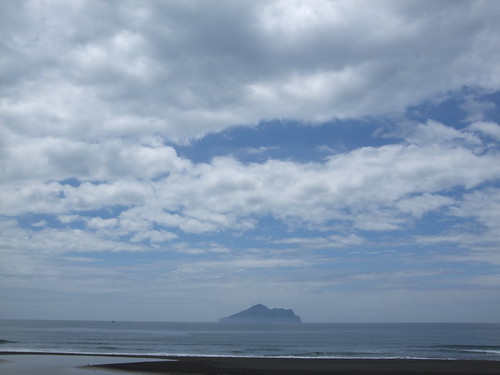turtleIsland: (221, 301, 302, 324)
